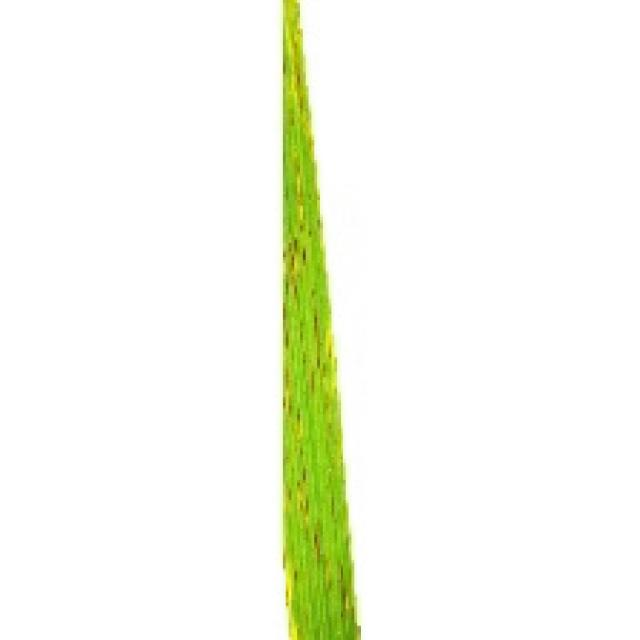Unhealthy: (286, 0, 315, 152), (282, 550, 304, 640), (283, 237, 302, 302), (297, 465, 311, 541), (293, 155, 307, 231), (282, 360, 293, 418), (313, 308, 323, 368), (281, 301, 291, 349), (284, 478, 292, 519), (313, 527, 321, 565), (341, 585, 350, 616), (329, 494, 337, 523), (325, 557, 332, 590), (338, 564, 345, 594), (309, 368, 316, 396), (327, 331, 333, 362), (297, 408, 302, 438), (301, 245, 307, 268), (302, 351, 308, 370), (282, 57, 287, 76), (300, 321, 304, 344), (333, 356, 338, 372), (325, 397, 330, 412), (328, 421, 333, 432), (310, 287, 315, 298)
